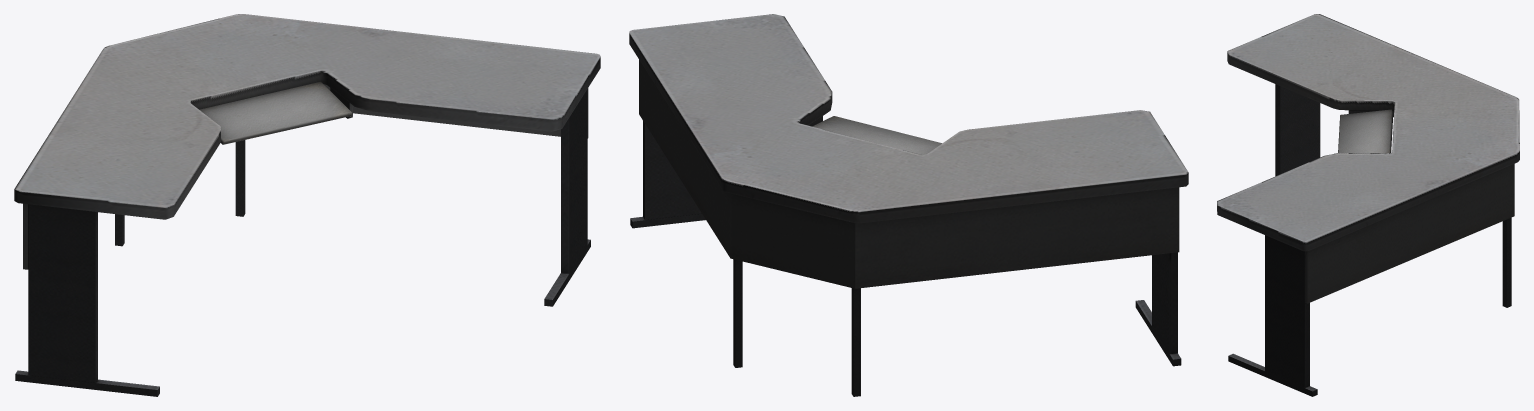
File: desk-2.FBX
3 views of the same model, side by side, from view 1: azimuth 30°, elevation 25°; view 2: azimuth 150°, elevation 25°; view 3: azimuth 270°, elevation 25° (orthographic). The views are drawn at different scales.
Visible parts, largest first — view 1: Line02; view 2: Line02; view 3: Line02.
Boxes of the visible parts, x1,y1,x2,y2 form: Line02: (14,14,600,396); Line02: (629,14,1188,396); Line02: (1217,14,1519,396).
Size of the model in its own units: 122 by 39.02 by 68.21.
Materials: 1 (1 with a texture image).
